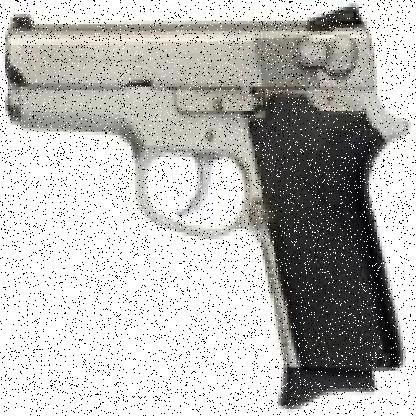pistol: (5, 10, 413, 405)
